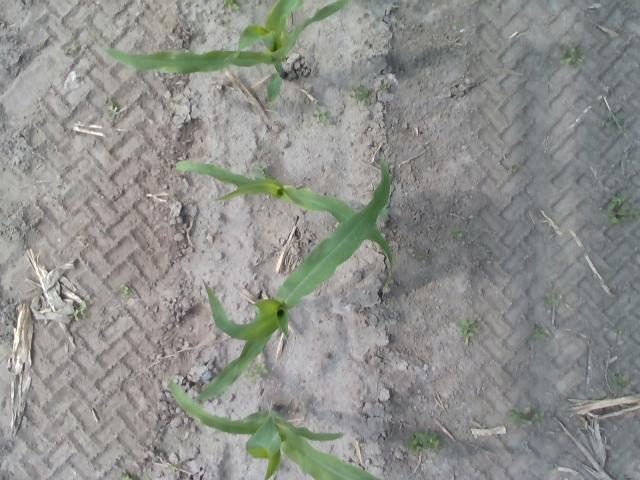Maize: (196, 162, 390, 403), (176, 160, 397, 294), (95, 0, 352, 103), (168, 380, 380, 480)
Weeds: (605, 194, 640, 227), (407, 428, 440, 451), (558, 40, 584, 68), (506, 405, 533, 426), (246, 362, 270, 384), (456, 317, 480, 338), (350, 84, 371, 106), (610, 372, 632, 391), (544, 288, 562, 310), (72, 300, 91, 320), (312, 105, 330, 125), (602, 110, 622, 128), (222, 0, 240, 11), (108, 102, 120, 118), (118, 283, 133, 295), (252, 163, 268, 174), (449, 228, 464, 239), (532, 327, 547, 338), (533, 412, 545, 424), (508, 162, 519, 173), (380, 204, 390, 216), (120, 472, 134, 480), (378, 83, 388, 91), (170, 464, 179, 472), (266, 172, 273, 178), (172, 99, 180, 104), (142, 475, 150, 480), (240, 0, 247, 3)
